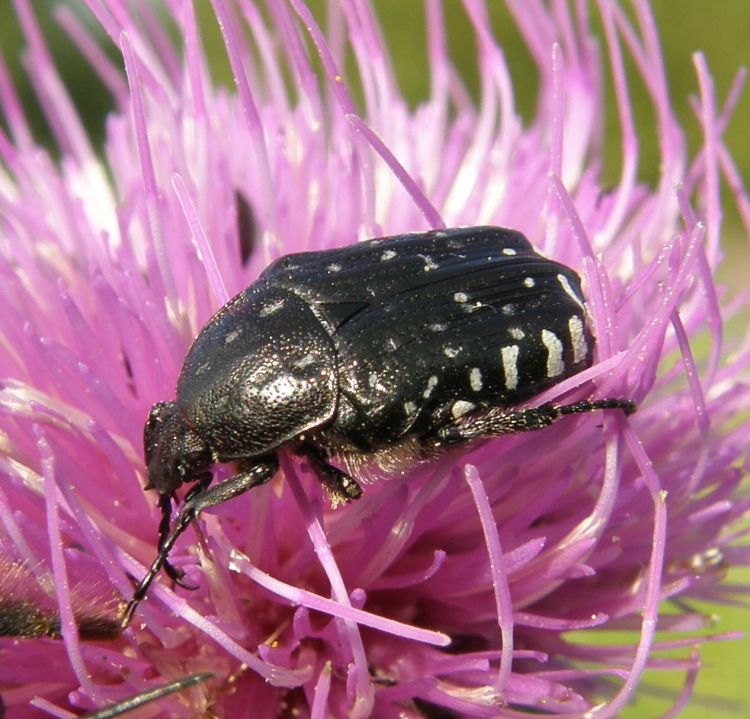Oxythyrea_funesta: (107, 208, 644, 637)
